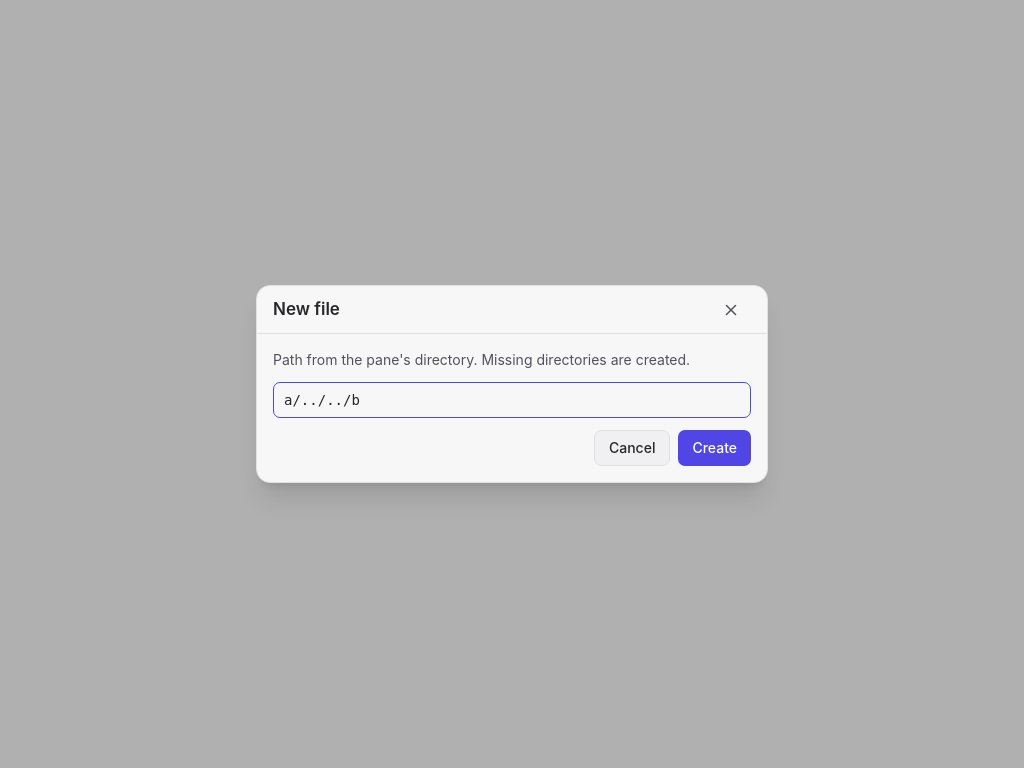
it: NewFileDialog › a/../../b is caught before sending
Click the button "Create": (715, 448) [678,430,751,466]
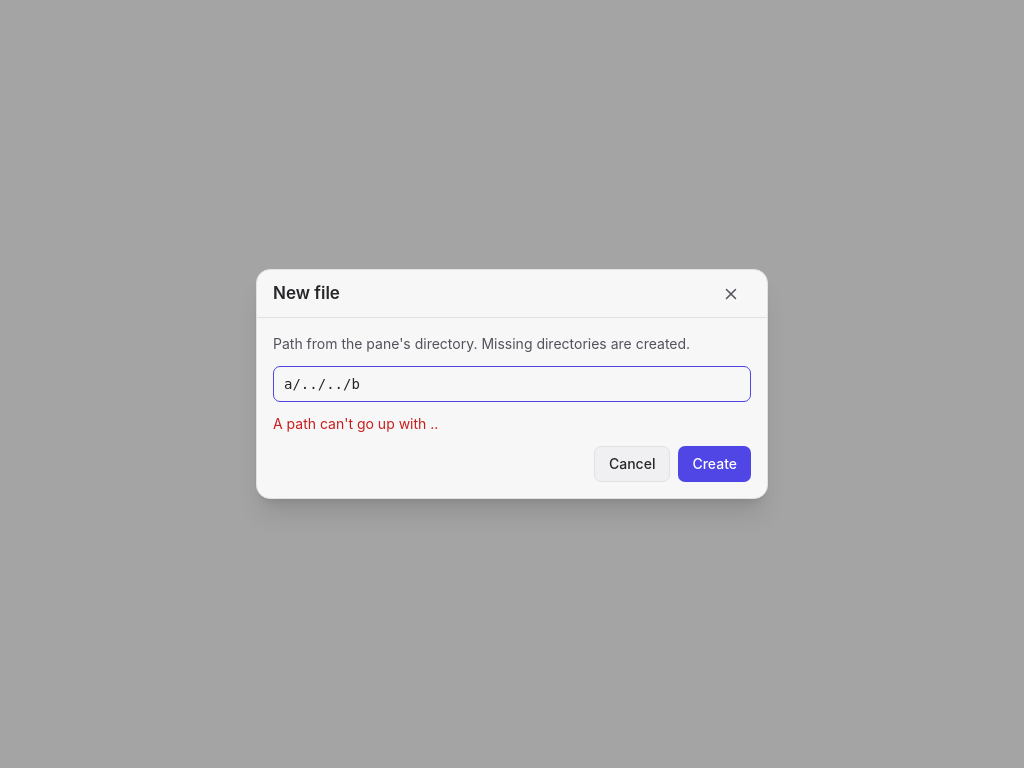
Expected: the message reads "A path can't go up with ..", [273,415,438,432]
Replace the text in the field with "x": (512, 384) [273,366,751,402]
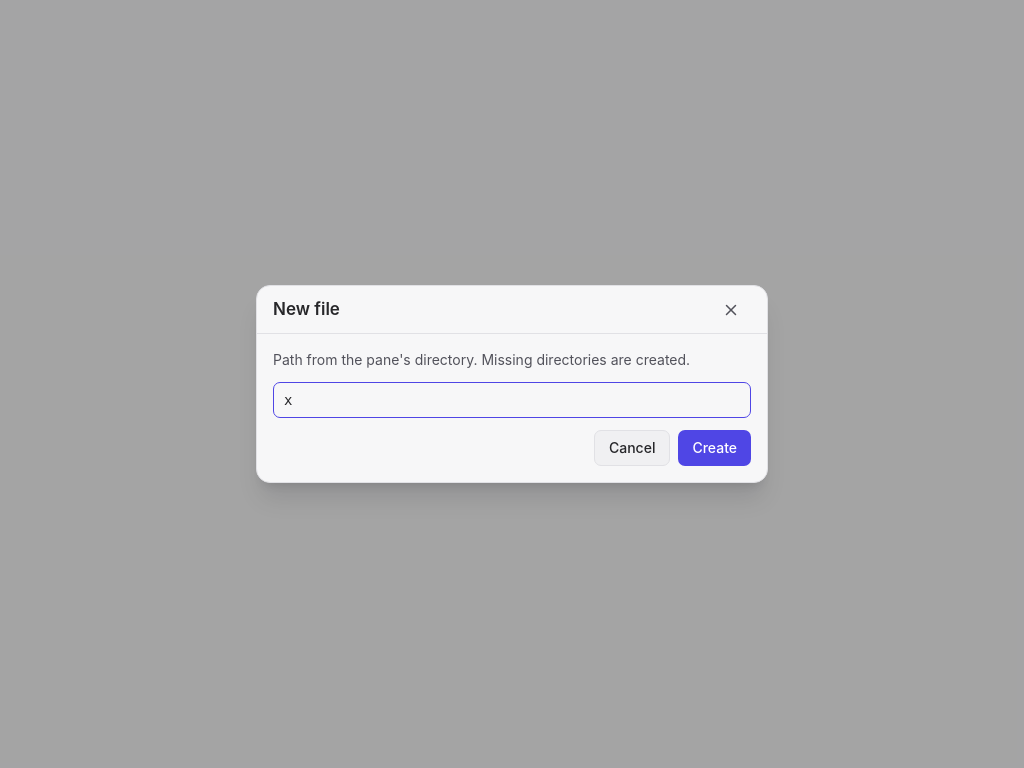
Expected: the message "A path can't go up with .." is gone
